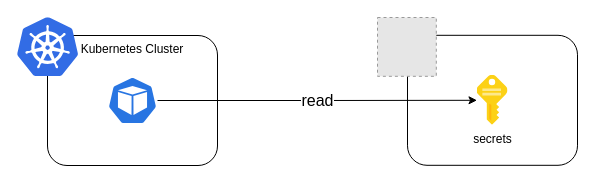
The diagram is 595 pixels wide and 183 high, and some of its shapes have lost their labels. Grey dashed boxes stand in for pictures. The shapes that lost their labels are listed below. From the top down, each one's box as (x1, y1, x2, y2) in pixels, then its label:
(106, 76, 158, 124): pod
(406, 34, 578, 165): Vault Cluster
